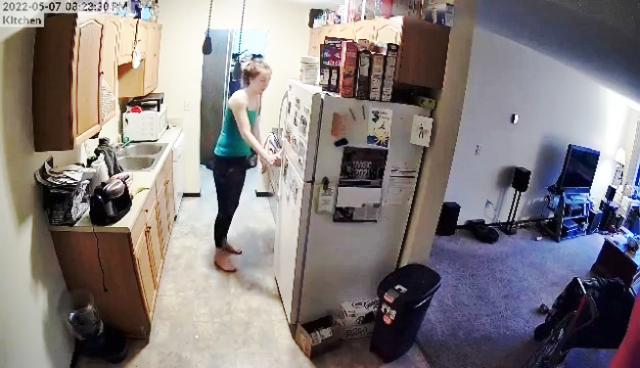berdiri: (208, 48, 282, 278)
